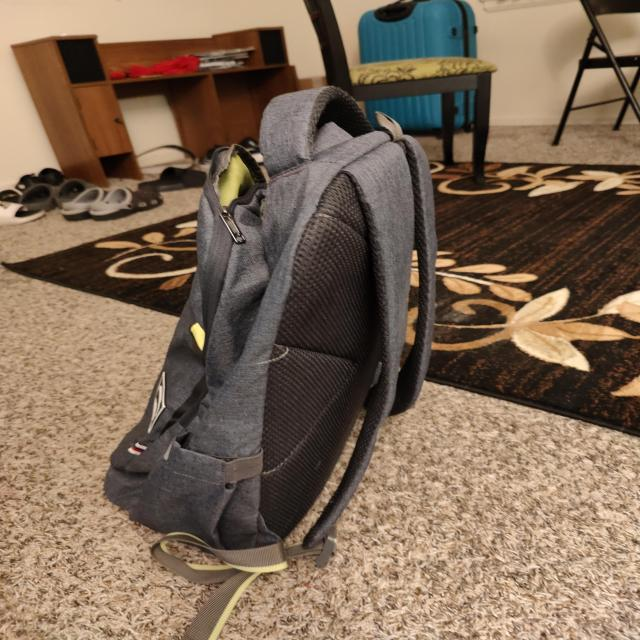bag: (143, 93, 418, 548)
